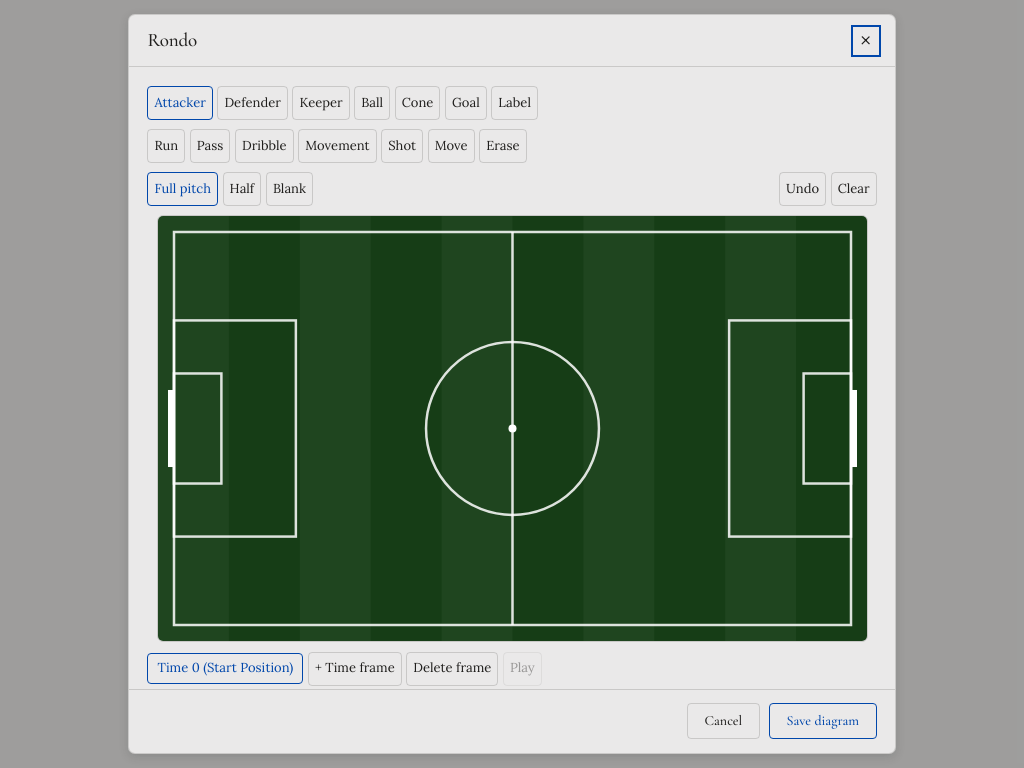
Test: closing with work that has not been saved › says so on the board while the work is unsaved
Click the button "+ Time frame" at (355, 668), box [308,652,402,686]
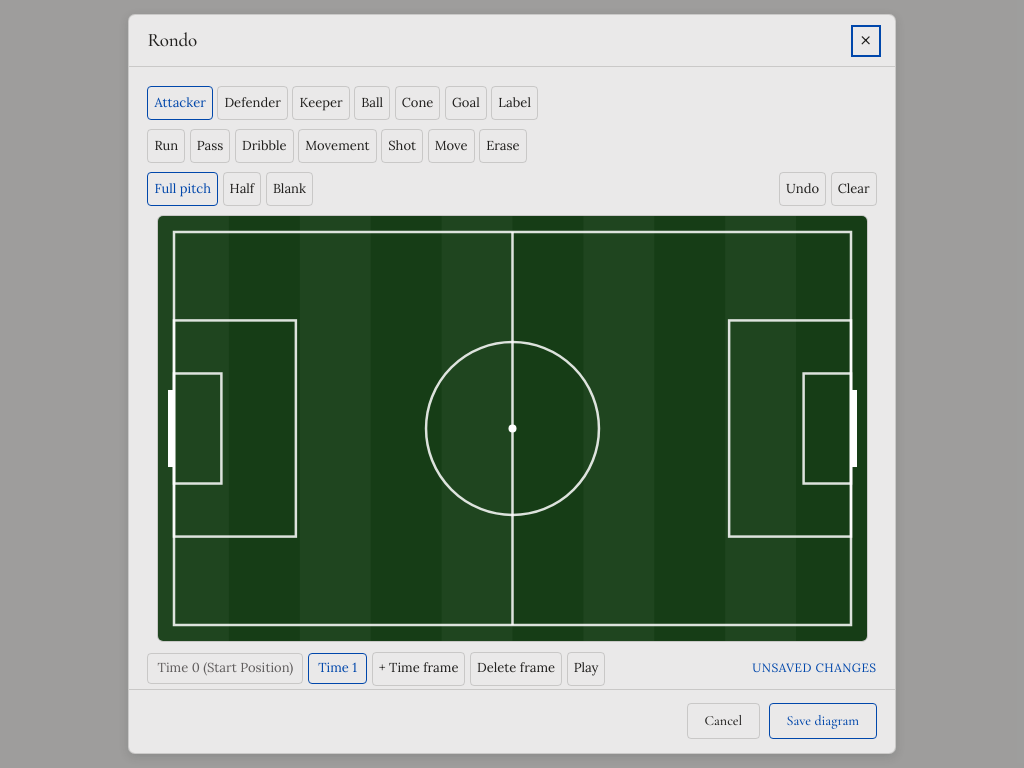
Expected: the message "Unsaved changes" is shown, [752,659,877,678]
